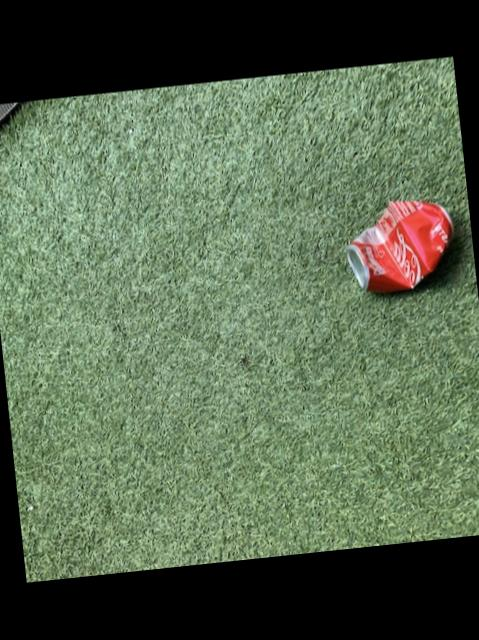metal: (344, 200, 450, 292)
